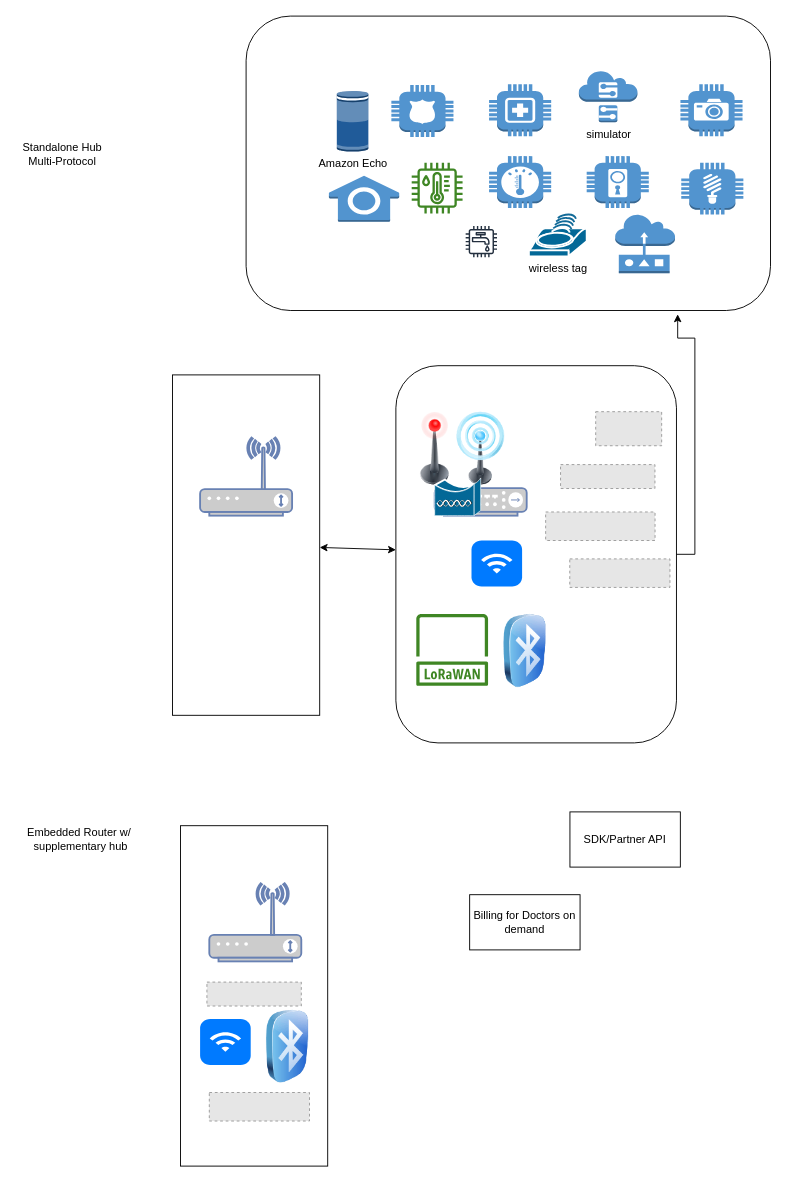
This 787x1182 diagram has some shape labels left out. Grey dashed boxes stand in for pictures. The centre of each missing label's shape, as x and y in pixels:
"Alexa Smart Skill" goes at (363,198).
"sensor" goes at (644,243).
"Utility" goes at (481,241).
